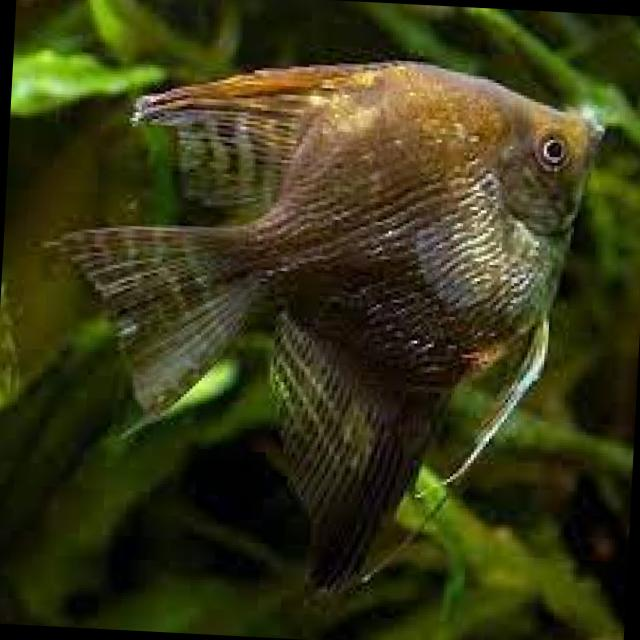AngelFish: (37, 46, 608, 624)
